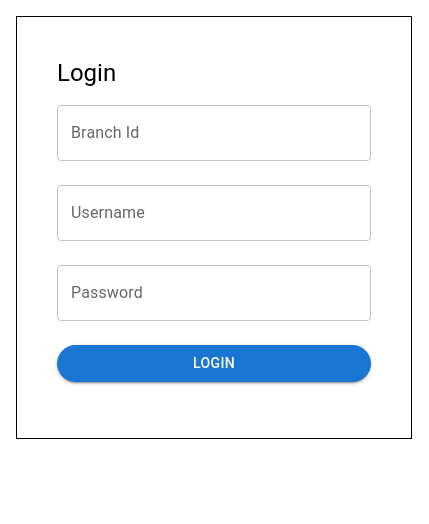
Scenario: LoginComponent › should render "Must be a number." error in branchId
Type "abcd" into the field labelled "Branch Id".
click(214, 133); type("abcd")  # box 57,105 -> 371,161
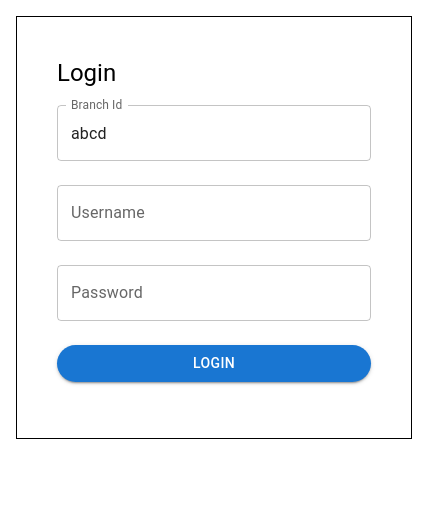
Click the button "Login".
click(214, 363)  # box 57,345 -> 371,382
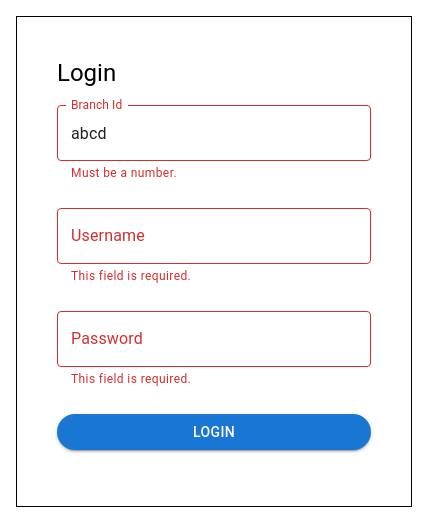
Expected: the text "Must be a number." is shown, 71,166 -> 177,180
